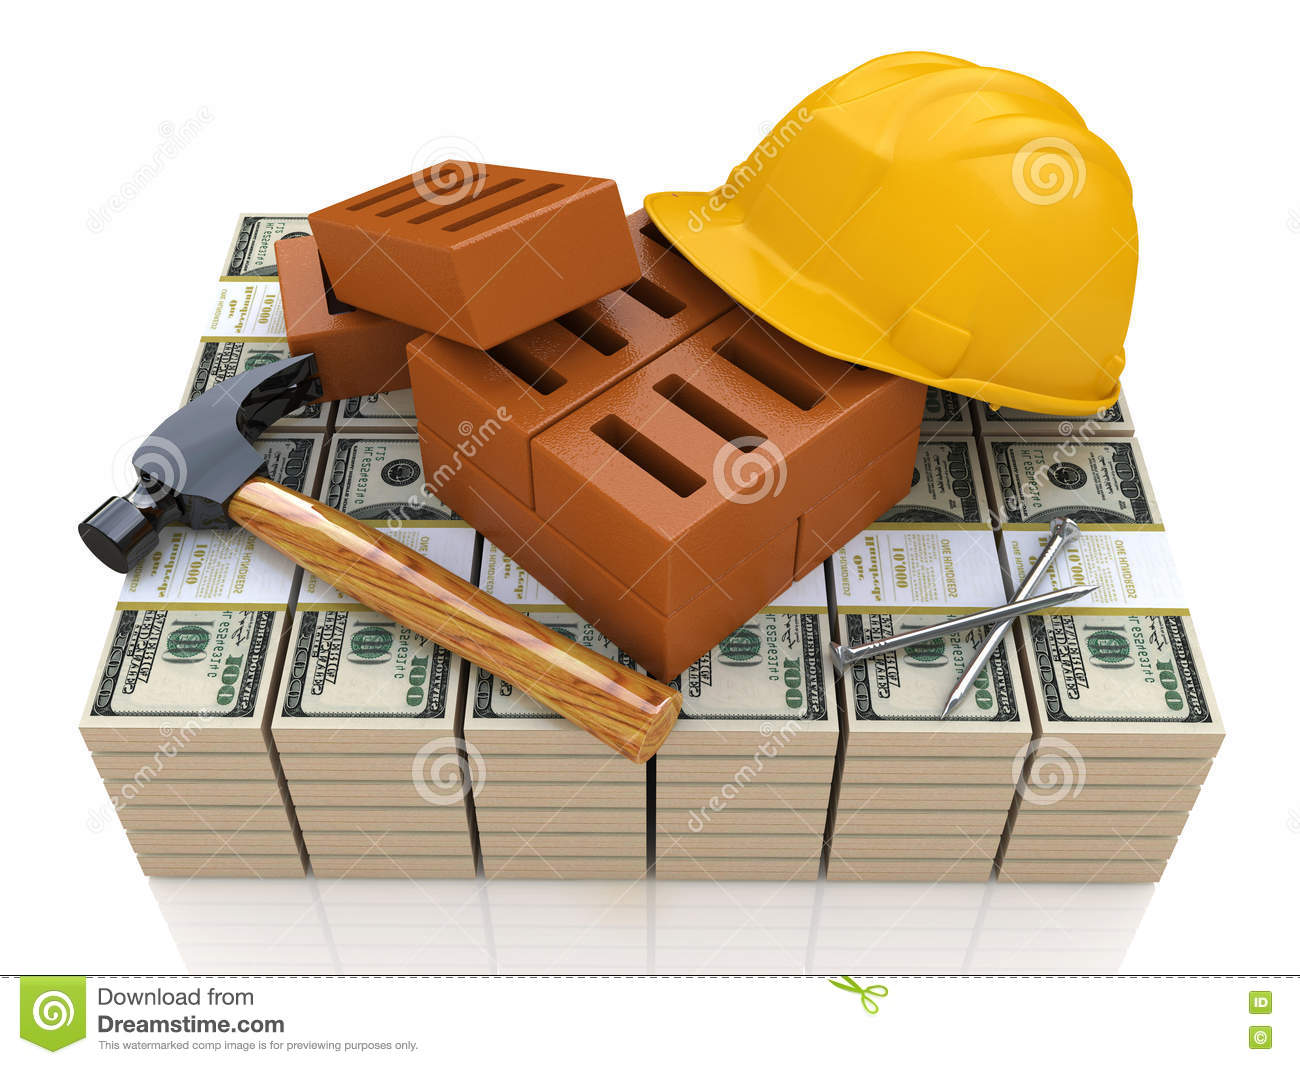casco: (644, 49, 1141, 419)
